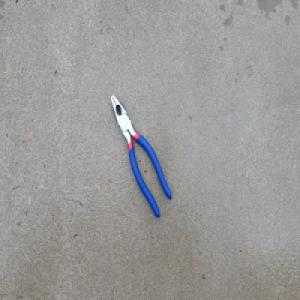Pliers: (110, 91, 173, 219)
